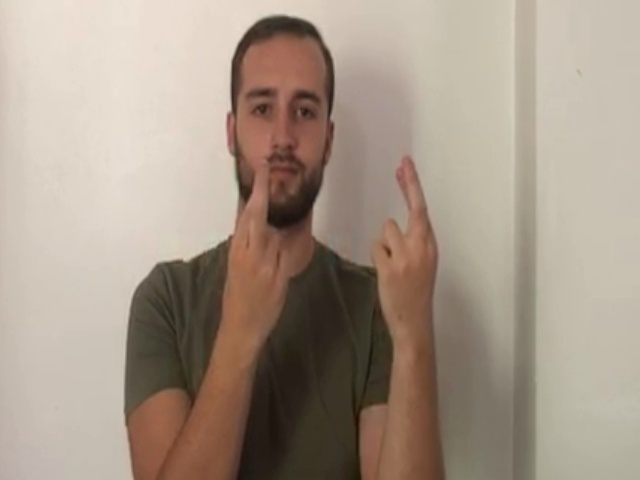Nadevanja: (213, 154, 446, 369)
